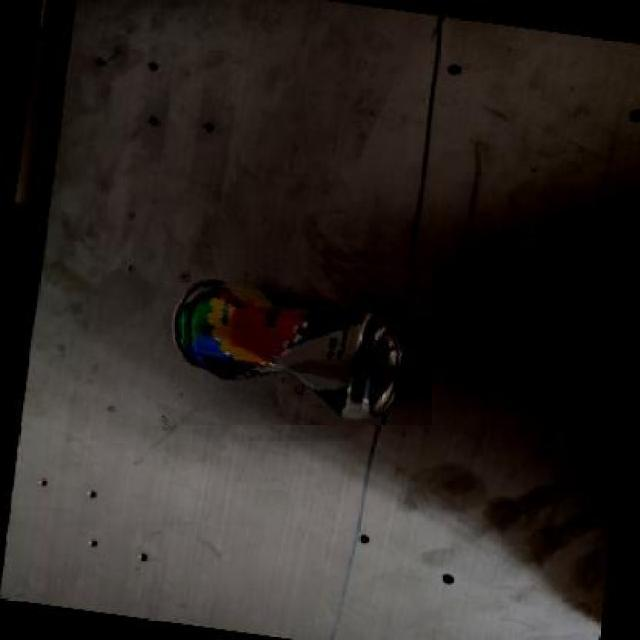recyclable: (142, 247, 432, 425)
